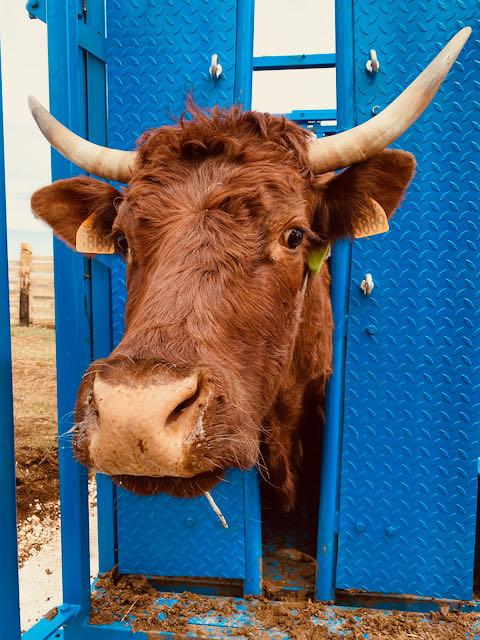muzzles: (67, 359, 254, 502)
